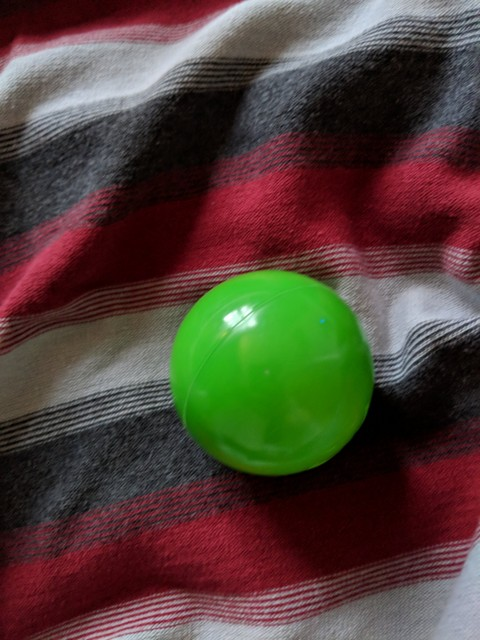ball: (161, 263, 378, 479)
